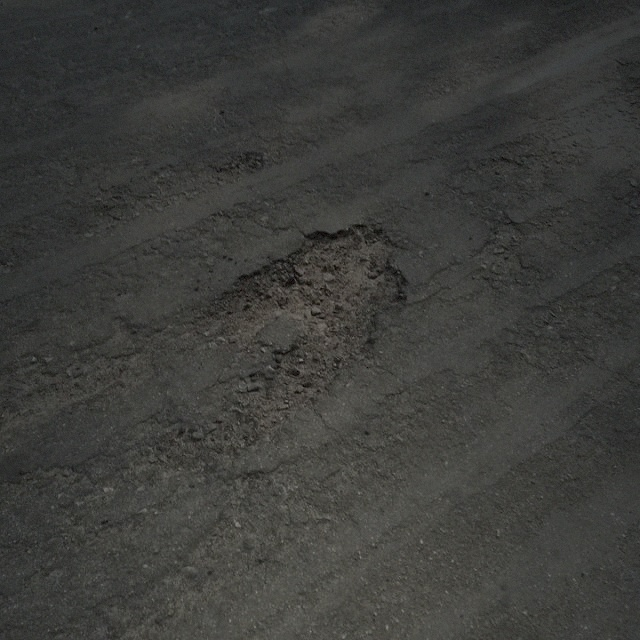pothole: (198, 217, 414, 434)
